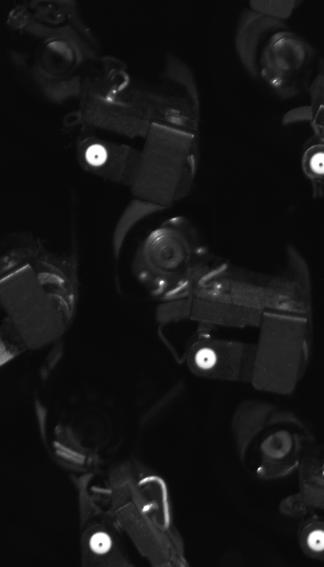fiber: (188, 343, 225, 373), (86, 526, 116, 560), (80, 140, 112, 170), (303, 523, 324, 559), (306, 149, 324, 178)
